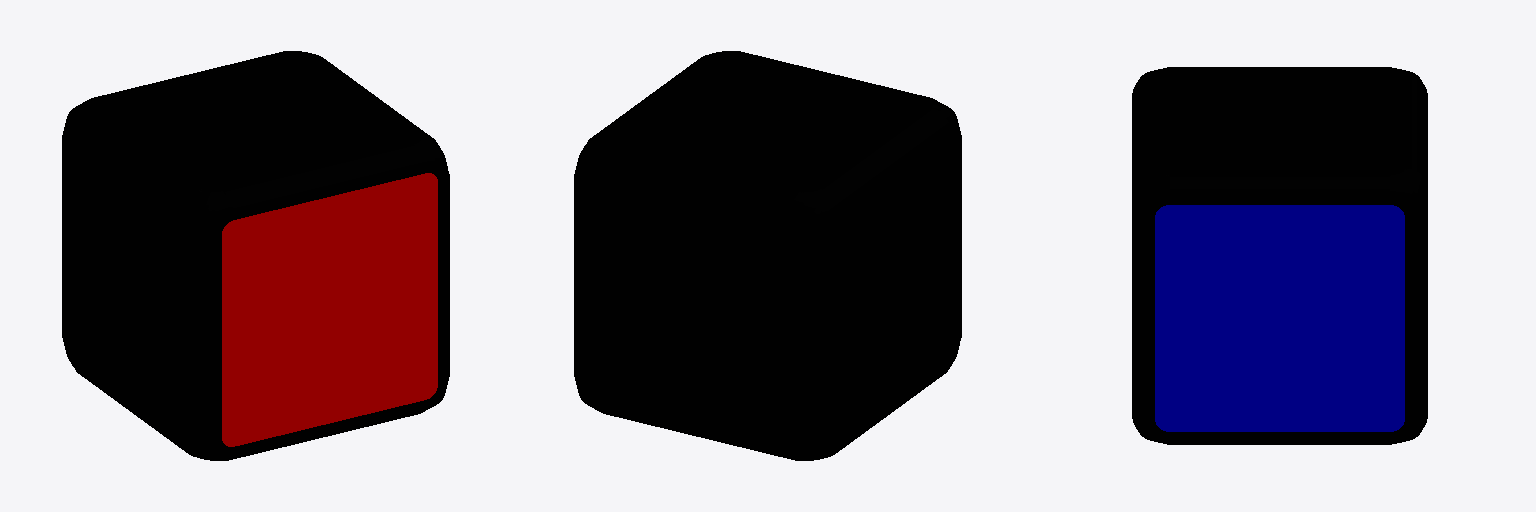
Rendered from corner_bry.obj.
3 renders of one model, left to right at view 1: azimuth 30°, elevation 25°; view 2: azimuth 150°, elevation 25°; view 3: azimuth 270°, elevation 25°, orthographic.
Parts seen in each view (by area): view 1: Cube; view 2: Cube; view 3: Cube.
Boxes of the visible parts, <box> form: Cube: <box>62,51,449,460</box>; Cube: <box>574,51,961,460</box>; Cube: <box>1132,67,1427,444</box>.
Size of the model in its own units: 2 by 2 by 2.